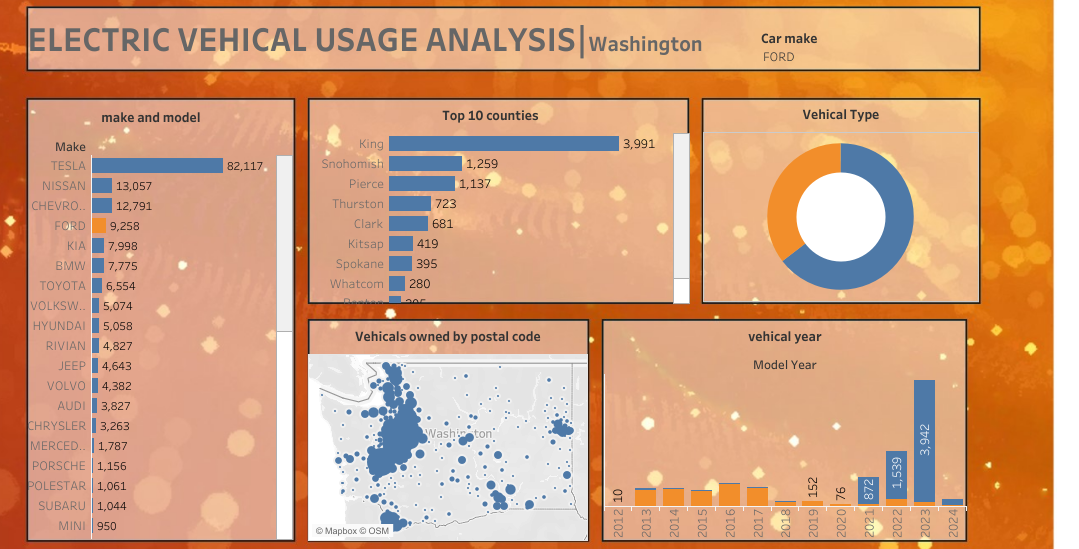

The page's visual inventory and layout, read from the dashboard file:
{"tool":"tableau","page":{"name":"Dashboard 2","canvas":[1080,550],"ordinal":0},"visuals":[{"type":"text","box":[25,7,690,61]},{"type":"parameter","param":"[Parameters].[Make Parameter]","box":[761.4,26.5,144.5,43.1]},{"type":"worksheet","title":"Vehical Type","mark":"Pie","rows":["Calculation_839639917333237762","Calculation_839639917333237762"],"box":[703,98,276,204]},{"type":"worksheet","title":"Top 10 counties","mark":"Automatic","rows":["County"],"cols":["DOL Vehicle ID"],"box":[309,99,381,204]},{"type":"worksheet","title":"make and model","mark":"Bar","rows":["Make"],"cols":["DOL Vehicle ID"],"box":[27,101,266,438]},{"type":"worksheet","title":"Vehicals owned by postal code","mark":"Automatic","box":[308,320,280,221]},{"type":"worksheet","title":"vehical year","mark":"Bar","rows":["DOL Vehicle ID"],"cols":["Model Year"],"box":[604,320,362,219]}]}

Visuals, with their boxes in screenshot pixels (x1, y1, x2, y2), scaled from the page's 1080x550 canvas onto the 1079x549 screenshot:
text: box(25, 7, 714, 68)
parameter: box(761, 26, 905, 69)
"Vehical Type" worksheet (Pie marks): box(702, 98, 978, 301)
"Top 10 counties" worksheet: box(309, 99, 689, 302)
"make and model" worksheet (Bar marks): box(27, 101, 293, 538)
"Vehicals owned by postal code" worksheet: box(308, 319, 587, 540)
"vehical year" worksheet (Bar marks): box(603, 319, 965, 538)
